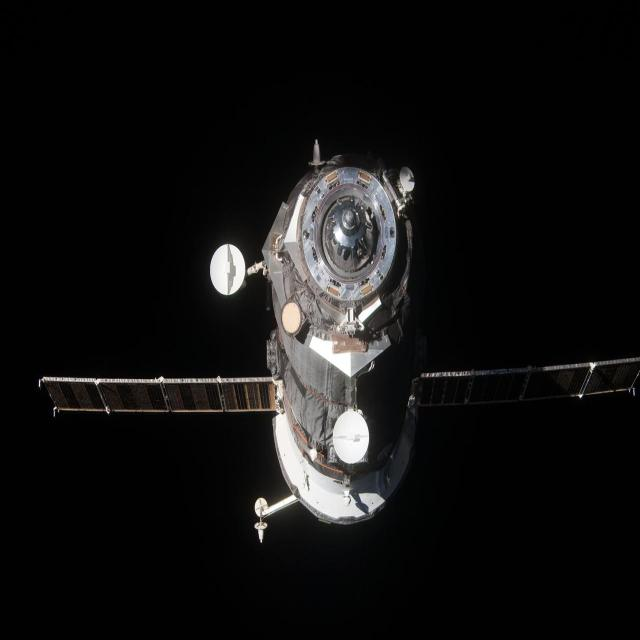medium_debris: (41, 147, 640, 539)
